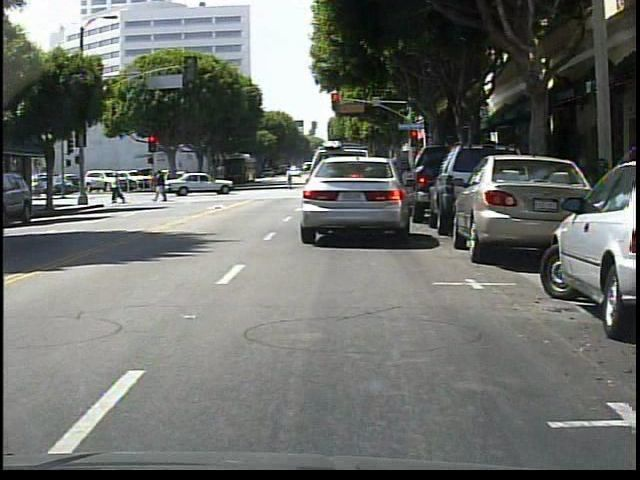person: (110, 173, 127, 205), (156, 170, 170, 203), (285, 166, 295, 190)
